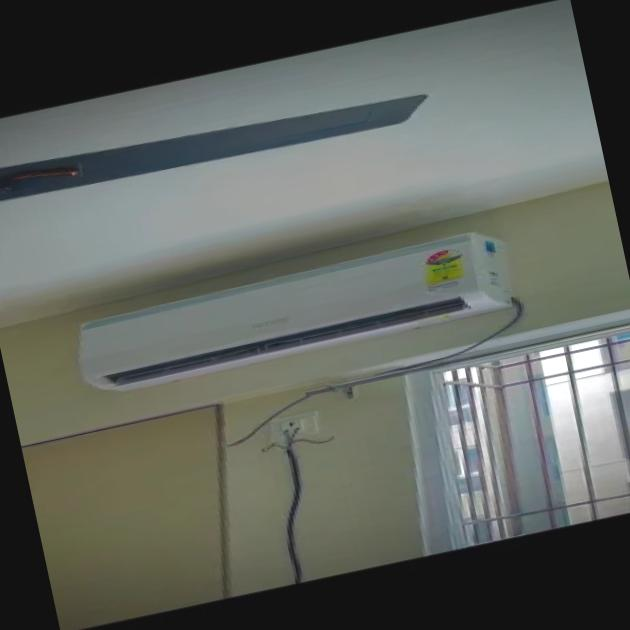air conditioner: (54, 211, 570, 439)
